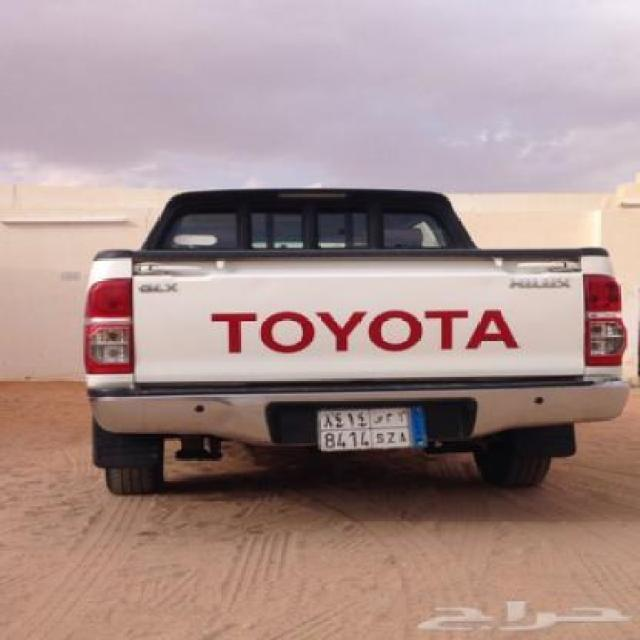license_plate: (312, 403, 434, 454)
